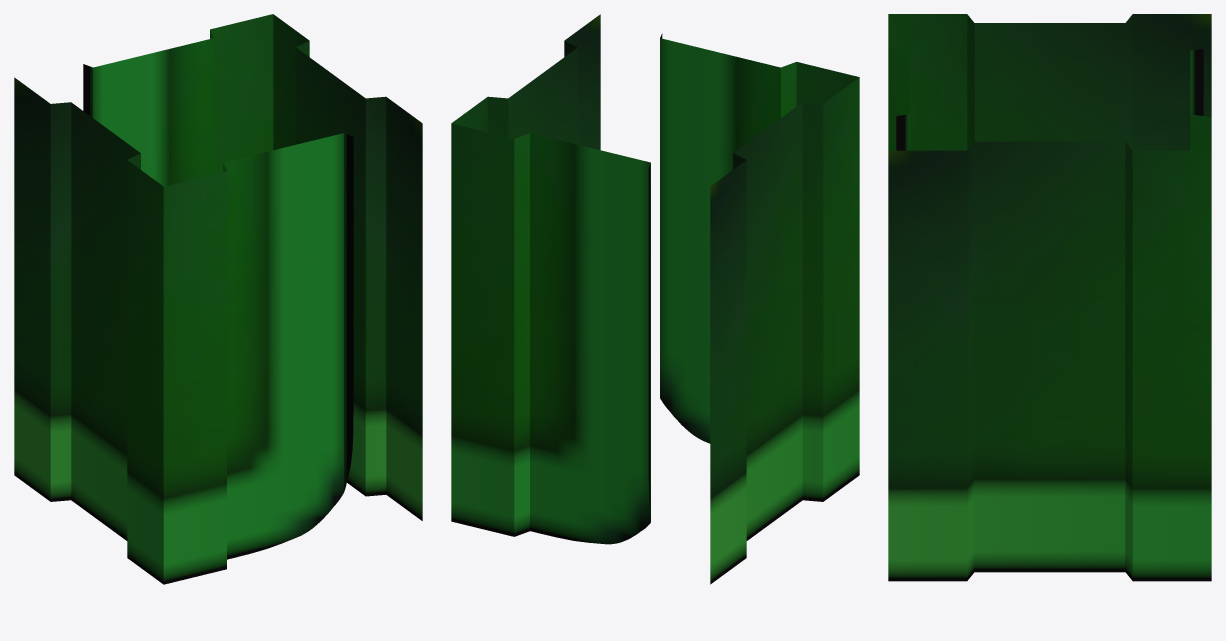
File: sn_shengdi_post_002.FBX
3 views of the same model, side by side, from view 1: azimuth 30°, elevation 25°; view 2: azimuth 150°, elevation 25°; view 3: azimuth 270°, elevation 25° (orthographic). The views are drawn at different scales.
Visible parts, largest first — view 1: sn_shengdi_post_002; view 2: sn_shengdi_post_002; view 3: sn_shengdi_post_002.
Boxes of the visible parts, <box> form: sn_shengdi_post_002: <box>14,14,422,584</box>; sn_shengdi_post_002: <box>451,14,859,584</box>; sn_shengdi_post_002: <box>888,14,1211,581</box>.
Bounding box in the file's own units: 131 × 131 × 212.
